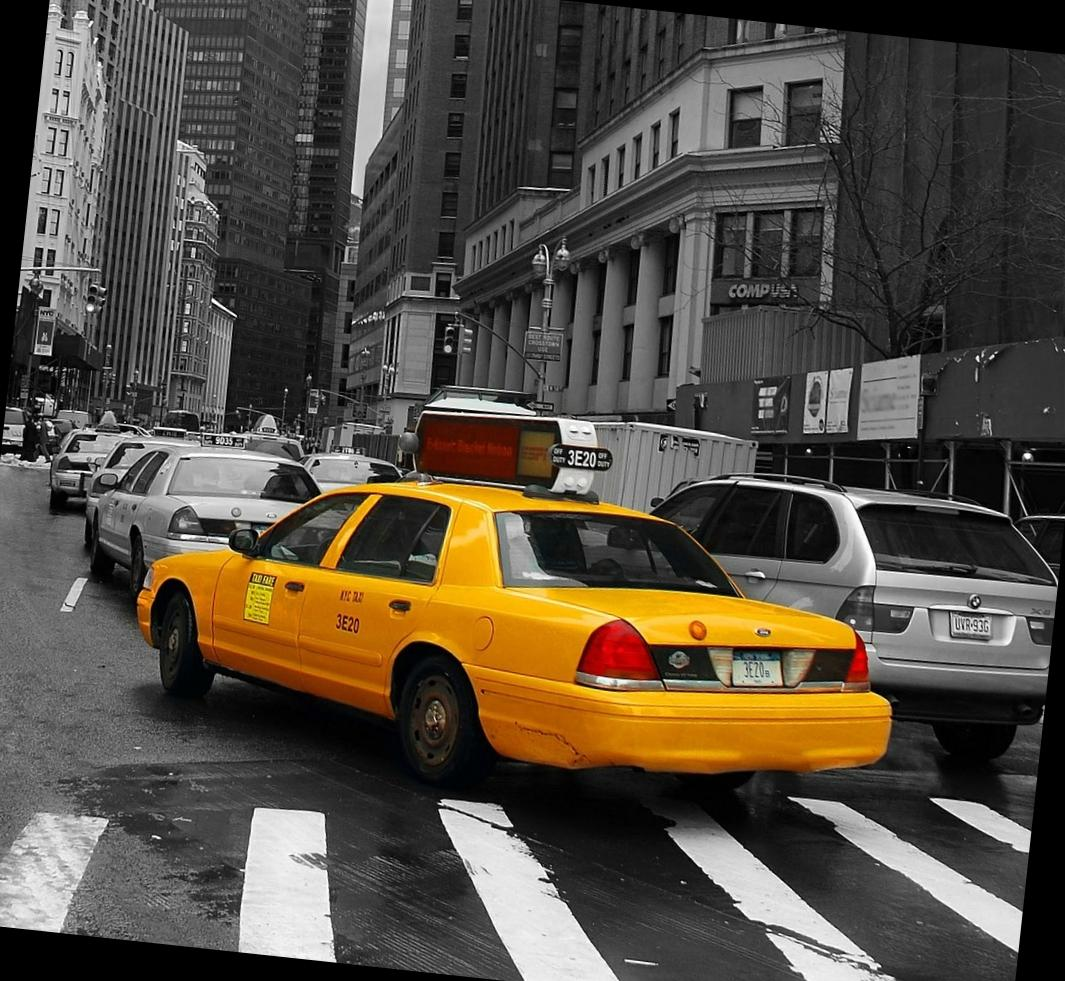taxi: (122, 485, 891, 834)
